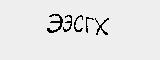Г: (83, 14, 95, 37)
С: (73, 12, 84, 35)
Х: (93, 16, 109, 37)
Э: (47, 10, 63, 36), (62, 12, 74, 35)
